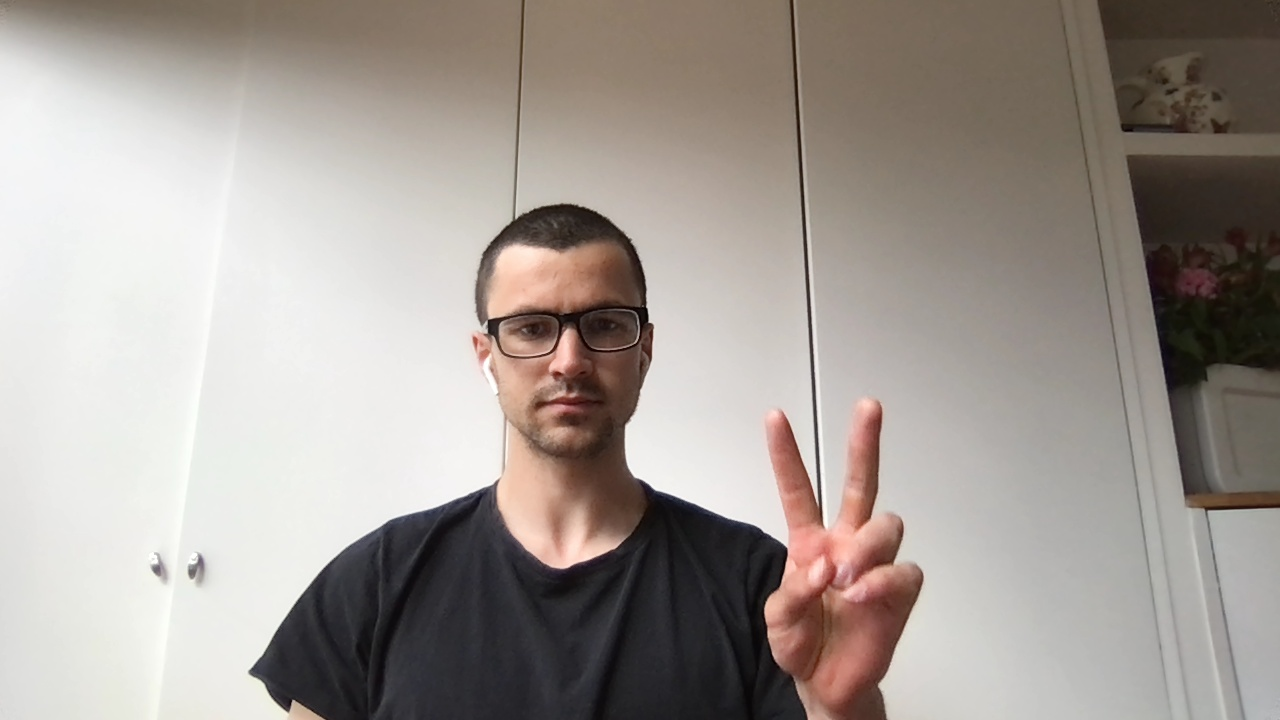peace: (761, 397, 924, 706)
